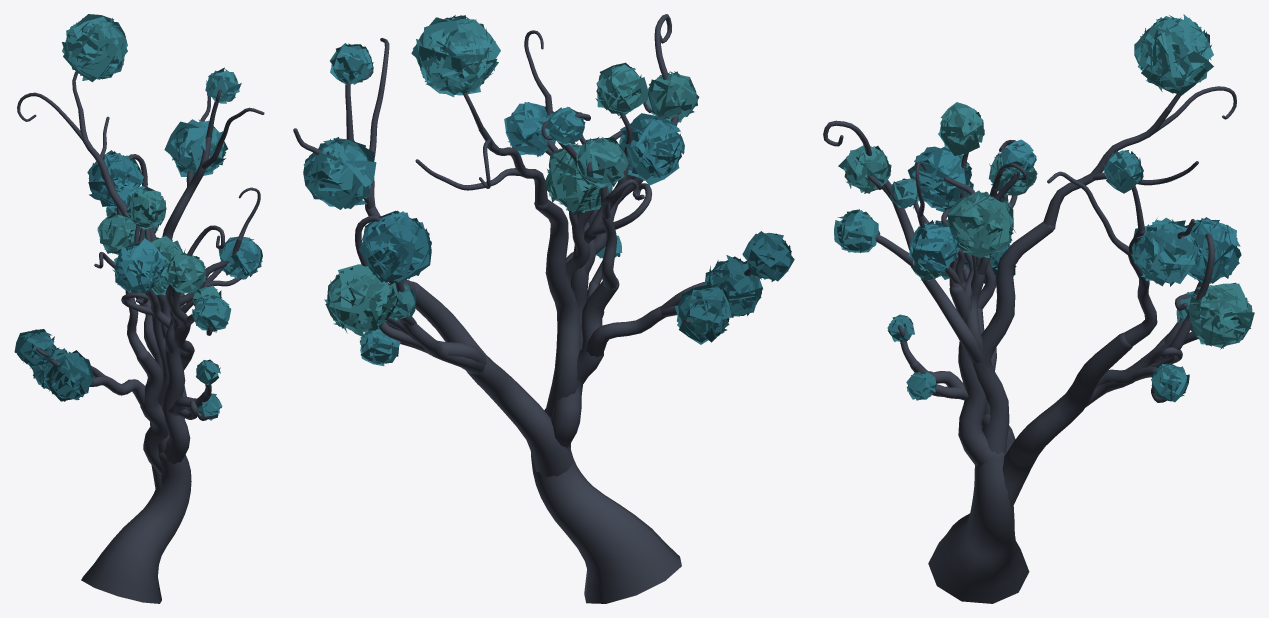
The model's file is spooky-1759.glb.
The picture shows the model from 3 angles, left to right: view 1: azimuth 30°, elevation 25°; view 2: azimuth 150°, elevation 25°; view 3: azimuth 270°, elevation 25°; orthographic projection. The views are drawn at different scales.
Visible parts, largest first — view 1: wood, leaves; view 2: leaves, wood; view 3: wood, leaves.
Boxes of the visible parts, x1,y1,x2,y2 form: wood: (17,71,264,603); leaves: (14,14,262,420); leaves: (303,15,794,366); wood: (293,14,751,603); wood: (823,86,1236,603); leaves: (834,14,1254,402).
Size of the model in its own units: 5.19 by 8.51 by 5.53.
